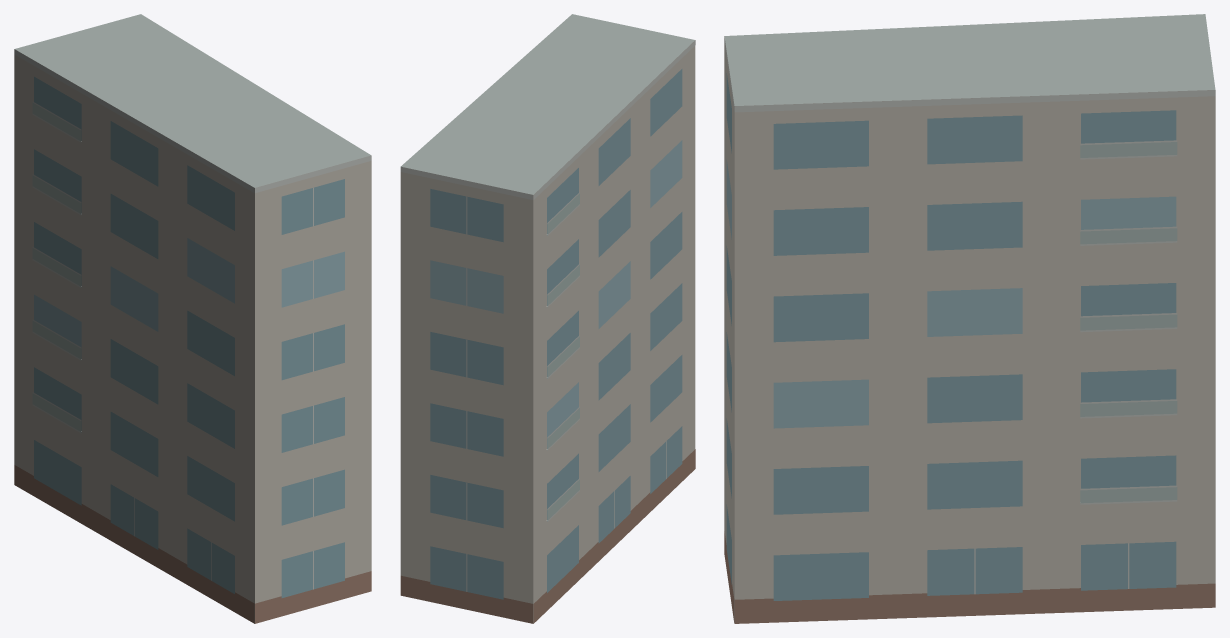
Rendered from survey-upis-32529731.glb.
3 views of the same model, side by side, from view 1: azimuth 30°, elevation 25°; view 2: azimuth 150°, elevation 25°; view 3: azimuth 270°, elevation 25° (orthographic). The views are drawn at different scales.
Parts seen in each view (by area): view 1: survey-upis-32529731.tmp; view 2: survey-upis-32529731.tmp; view 3: survey-upis-32529731.tmp.
Part boxes in pixels (x1,y1,x2,y2): survey-upis-32529731.tmp: [14, 14, 371, 623]; survey-upis-32529731.tmp: [400, 14, 695, 623]; survey-upis-32529731.tmp: [724, 14, 1215, 623].
Size of the model in its own units: 7.56 by 19.8 by 17.03.
